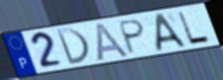2: (28, 30, 68, 72)
A: (95, 21, 132, 63), (156, 11, 188, 53)
D: (54, 27, 91, 66)
L: (176, 10, 213, 46)
P: (117, 18, 146, 56)
